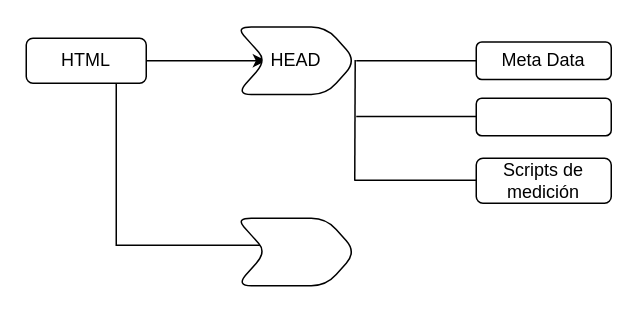
This 638x312 diagram has some shape labels left out. Here are the shapes that lost their labels. From the top down, the box of each, then its label:
(475, 97, 611, 136): Favicon
(235, 217, 356, 286): BODY
